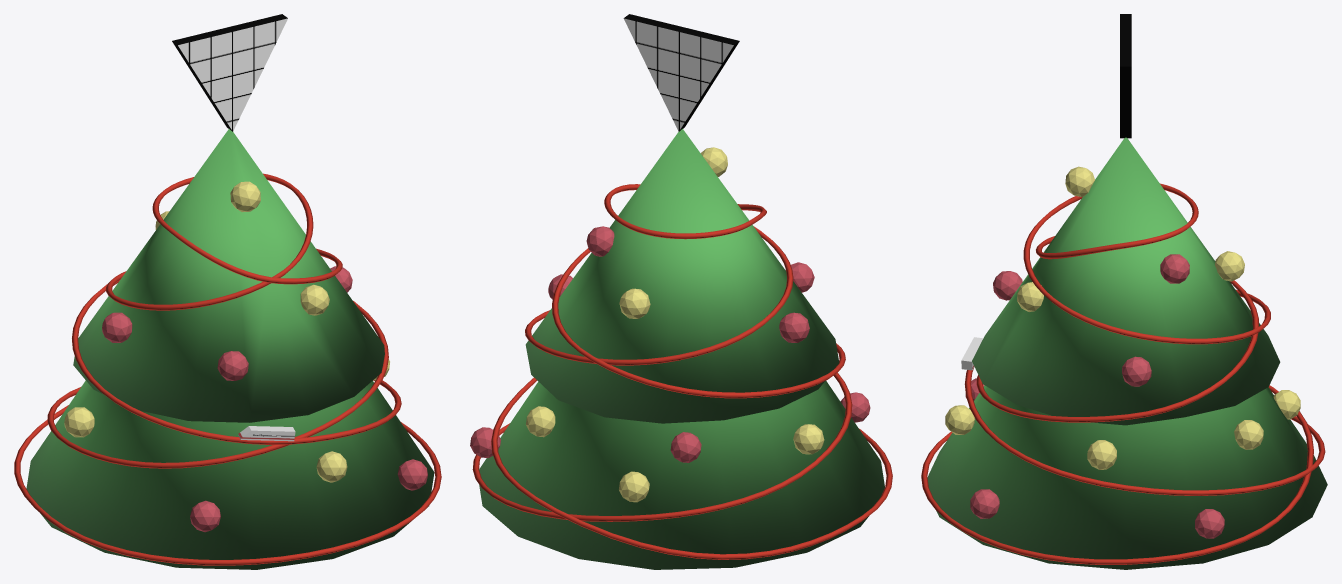
Rendered from ChristmasTrain3.gltf.
The picture shows the model from 3 angles, left to right: view 1: azimuth 30°, elevation 25°; view 2: azimuth 150°, elevation 25°; view 3: azimuth 270°, elevation 25°; orthographic projection. The views are drawn at different scales.
Parts seen in each view (by area): view 1: Tree_Top, Tree_Base, Ribbon_002, Dwar_logo, Drawf_Train__Train_Backed, Icosphere.003, Icosphere.013, Icosphere.004, Icosphere.002, Icosphere.014, Icosphere, Icosphere.005 (+1 smaller); view 2: Tree_Top, Tree_Base, Ribbon_002, Dwar_logo, Icosphere.013, Icosphere.011, Icosphere.012, Icosphere.015, Icosphere.014, Icosphere.010, Icosphere.008, Icosphere.009; view 3: Tree_Base, Tree_Top, Ribbon_002, Dwar_logo, Icosphere.009, Icosphere.006, Icosphere.007, Icosphere.008, Icosphere.005, Icosphere.010, Icosphere.003, Icosphere.015 (+4 smaller).
Boxes of the visible parts, x1=… form: Tree_Top: x1=73, y1=129, x2=384, y2=422; Tree_Base: x1=26, y1=380, x2=434, y2=569; Ribbon_002: x1=14, y1=173, x2=441, y2=565; Dwar_logo: x1=172, y1=14, x2=287, y2=131; Drawf_Train__Train_Backed: x1=238, y1=426, x2=295, y2=441; Icosphere.003: x1=316, y1=451, x2=347, y2=482; Icosphere.013: x1=64, y1=407, x2=94, y2=437; Icosphere.004: x1=190, y1=500, x2=220, y2=532; Icosphere.002: x1=230, y1=181, x2=260, y2=212; Icosphere.014: x1=102, y1=312, x2=132, y2=342; Icosphere: x1=217, y1=351, x2=248, y2=380; Icosphere.005: x1=397, y1=459, x2=427, y2=490; Tree_Top: x1=525, y1=129, x2=839, y2=423; Tree_Base: x1=479, y1=381, x2=884, y2=569; Ribbon_002: x1=472, y1=184, x2=892, y2=559; Dwar_logo: x1=623, y1=14, x2=739, y2=131; Icosphere.013: x1=793, y1=424, x2=824, y2=454; Icosphere.011: x1=619, y1=471, x2=649, y2=502; Icosphere.012: x1=670, y1=432, x2=701, y2=462; Icosphere.015: x1=619, y1=288, x2=650, y2=318; Icosphere.014: x1=779, y1=312, x2=809, y2=342; Icosphere.010: x1=526, y1=406, x2=555, y2=437; Icosphere.008: x1=586, y1=226, x2=614, y2=256; Icosphere.009: x1=470, y1=427, x2=500, y2=458; Tree_Base: x1=927, y1=385, x2=1327, y2=569; Tree_Top: x1=972, y1=137, x2=1280, y2=425; Ribbon_002: x1=921, y1=183, x2=1325, y2=564; Dwar_logo: x1=1120, y1=14, x2=1131, y2=138; Icosphere.009: x1=1195, y1=509, x2=1224, y2=538; Icosphere.006: x1=1087, y1=440, x2=1116, y2=469; Icosphere.007: x1=1122, y1=356, x2=1151, y2=386; Icosphere.008: x1=1160, y1=254, x2=1189, y2=283; Icosphere.005: x1=970, y1=489, x2=999, y2=518; Icosphere.010: x1=1234, y1=420, x2=1263, y2=449; Icosphere.003: x1=945, y1=405, x2=974, y2=434; Icosphere.015: x1=1215, y1=251, x2=1244, y2=281.
Size of the model in its own units: 26.65 by 31.63 by 26.24.
8 materials, 3 textured.
